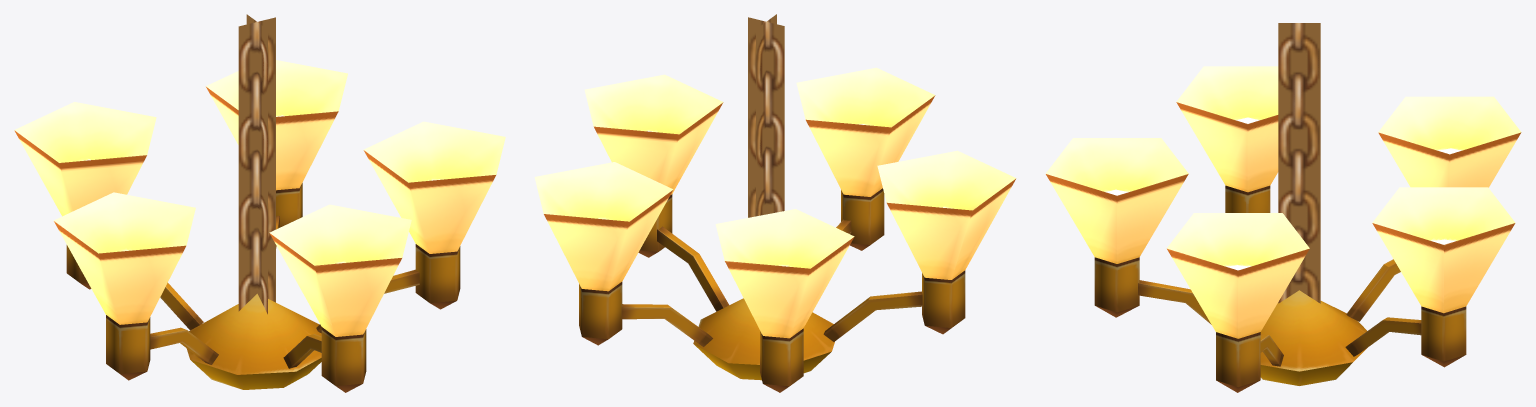
The model's file is ELT0110014.fbx.
3 renders of one model, left to right at view 1: azimuth 30°, elevation 25°; view 2: azimuth 150°, elevation 25°; view 3: azimuth 270°, elevation 25°, orthographic. The views are drawn at different scales.
Visible parts, largest first — view 1: smELT0110014; view 2: smELT0110014; view 3: smELT0110014.
Part boxes in pixels (bbox=[...]): smELT0110014: bbox=[14, 14, 505, 392]; smELT0110014: bbox=[534, 14, 1016, 392]; smELT0110014: bbox=[1045, 23, 1521, 392].
Size of the model in its own units: 105 by 84.55 by 103.
1 material, 1 textured.
